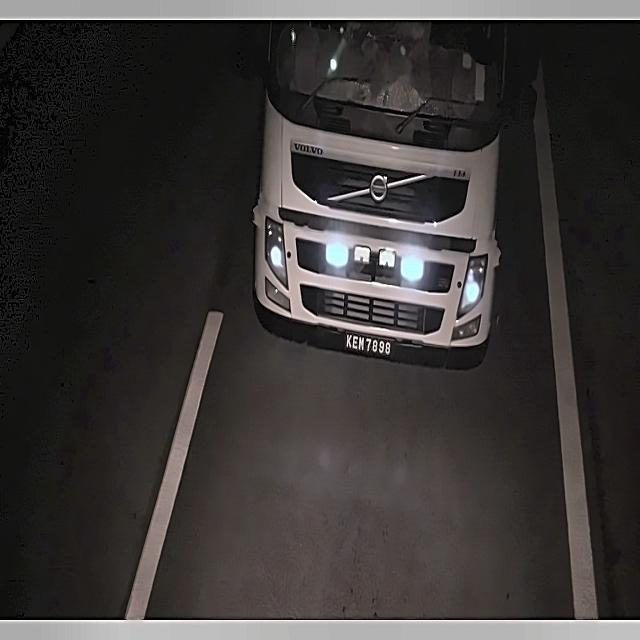car: (342, 329, 396, 362)
